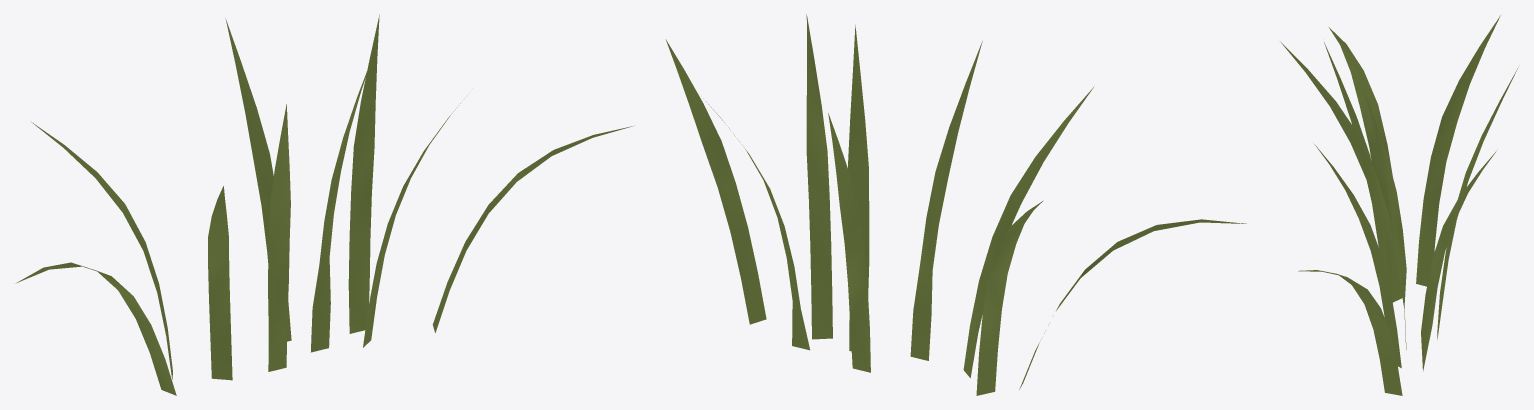
File: Grass_MDL.fbx
3 views of the same model, side by side, from view 1: azimuth 30°, elevation 25°; view 2: azimuth 150°, elevation 25°; view 3: azimuth 270°, elevation 25° (orthographic). The views are drawn at different scales.
Visible parts, largest first — view 1: Grass; view 2: Grass; view 3: Grass.
Boxes of the visible parts, x1,y1,x2,y2 form: Grass: (16,14,634,395); Grass: (665,14,1246,395); Grass: (1280,15,1519,395).
Bounding box in the file's own units: 98.99 × 47.75 × 37.77.
1 material, 1 textured.
